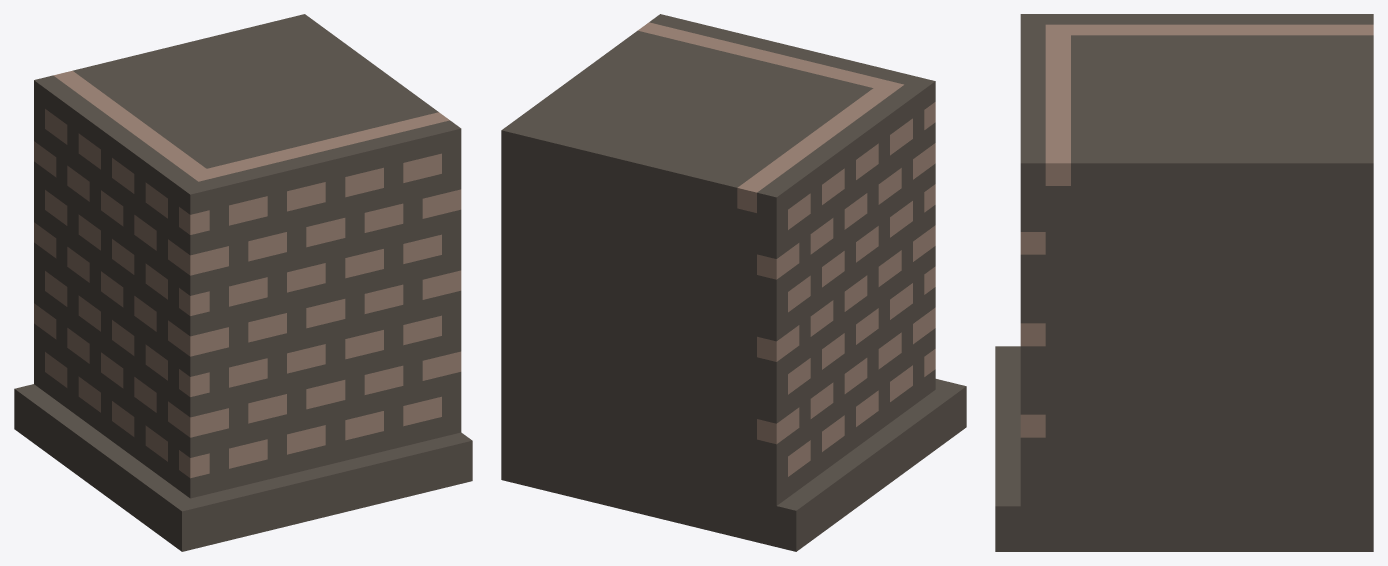
File: dungeon_a_a_outer_wall_corner_a.obj
The picture shows the model from 3 angles, left to right: view 1: azimuth 30°, elevation 25°; view 2: azimuth 150°, elevation 25°; view 3: azimuth 270°, elevation 25°; orthographic projection. The views are drawn at different scales.
Bounding box in the file's own units: 1.5 × 1.7 × 1.5.
1 material, 1 textured.
